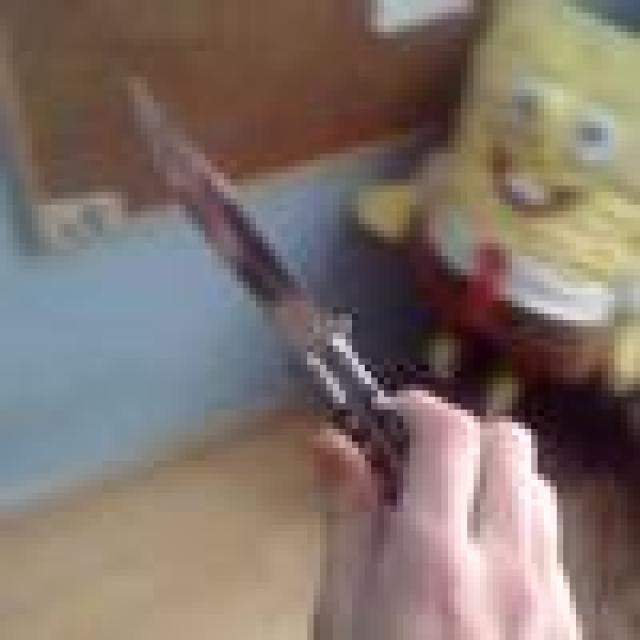knife: (132, 88, 380, 436)
